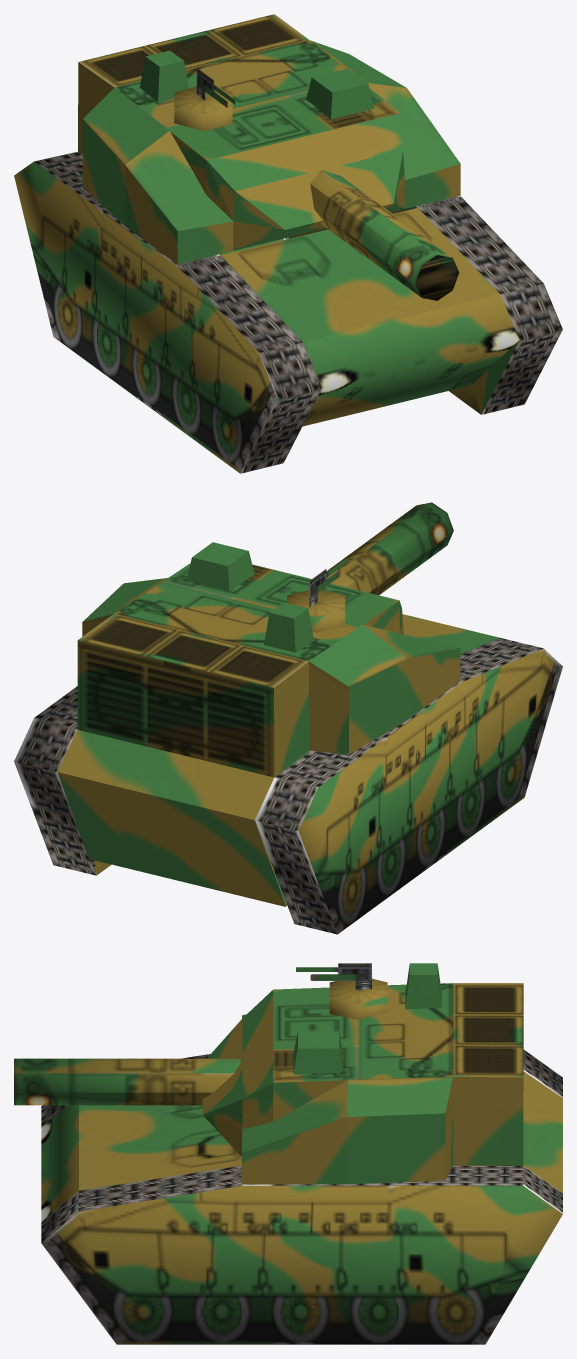
Rendered from Tanks_SD_Deformed.fbx.
3 views of the same model, one above another, from view 1: azimuth 30°, elevation 25°; view 2: azimuth 150°, elevation 25°; view 3: azimuth 270°, elevation 25° (orthographic).
Visible parts, largest first — view 1: Tanks_SD_Deformed; view 2: Tanks_SD_Deformed; view 3: Tanks_SD_Deformed.
Boxes of the visible parts, x1=… form: Tanks_SD_Deformed: x1=14, y1=14, x2=562, y2=473; Tanks_SD_Deformed: x1=14, y1=502, x2=562, y2=934; Tanks_SD_Deformed: x1=14, y1=963, x2=562, y2=1344.
Bounding box in the file's own units: 2.87 × 2.8 × 4.87.
Materials: 1 (1 with a texture image).
